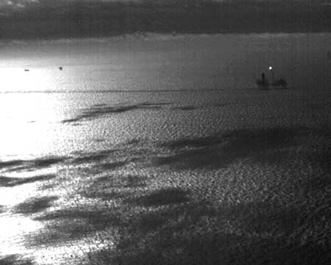Target: (269, 67, 271, 69)
